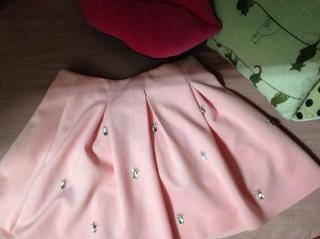skirt: (0, 56, 319, 239)
